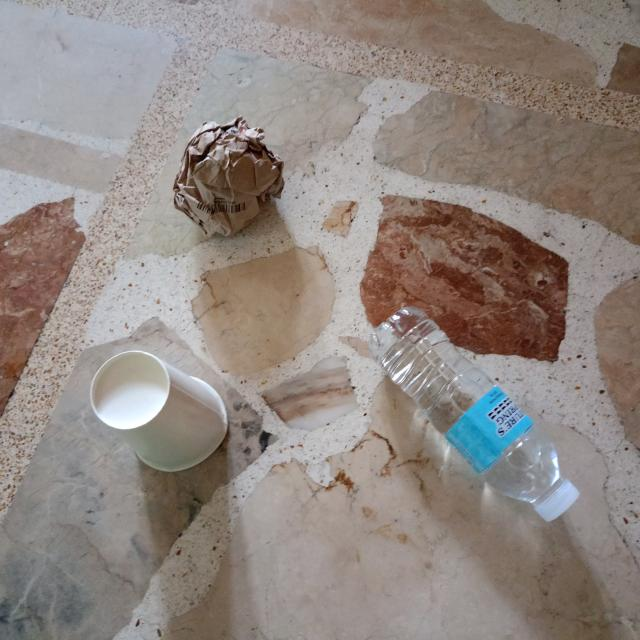Anorganik: (365, 304, 588, 538)
Organik: (76, 340, 238, 478), (154, 109, 295, 242)
